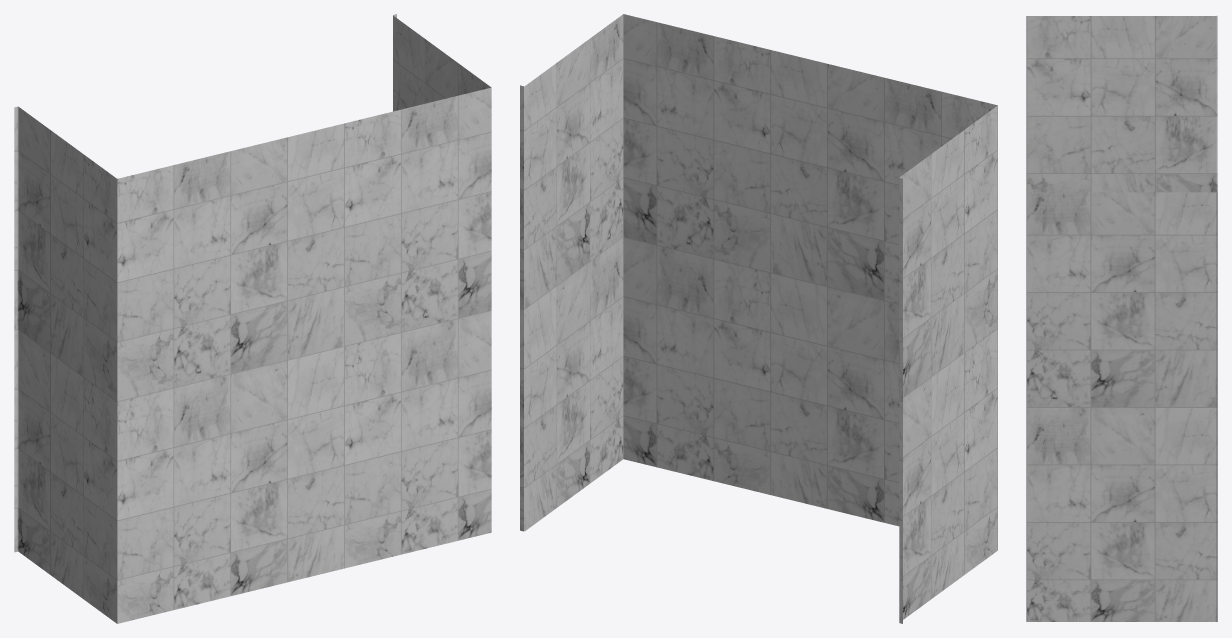
The model's file is WallTiles_solid.FBX.
3 views of the same model, side by side, from view 1: azimuth 30°, elevation 25°; view 2: azimuth 150°, elevation 25°; view 3: azimuth 270°, elevation 25° (orthographic). The views are drawn at different scales.
Visible parts, largest first — view 1: WallTiles_solid; view 2: WallTiles_solid; view 3: WallTiles_solid.
Boxes of the visible parts, x1=… form: WallTiles_solid: x1=14, y1=14, x2=491, y2=623; WallTiles_solid: x1=520, y1=14, x2=997, y2=623; WallTiles_solid: x1=1026, y1=15, x2=1217, y2=621.
Bounding box in the file's own units: 168 × 187 × 75.36.
